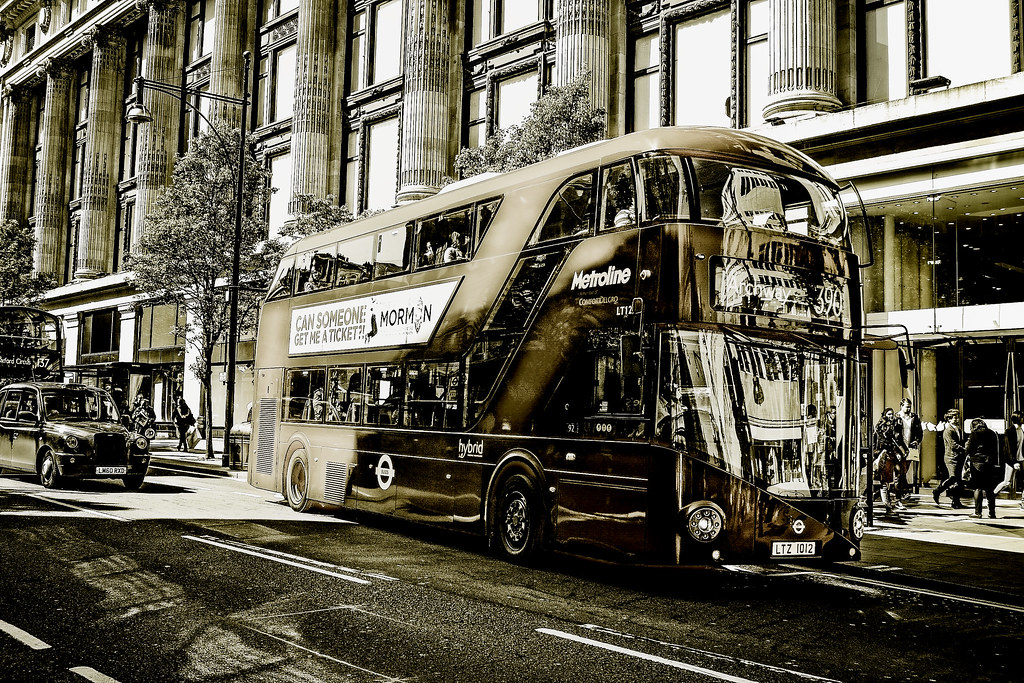bus: (193, 90, 889, 585)
